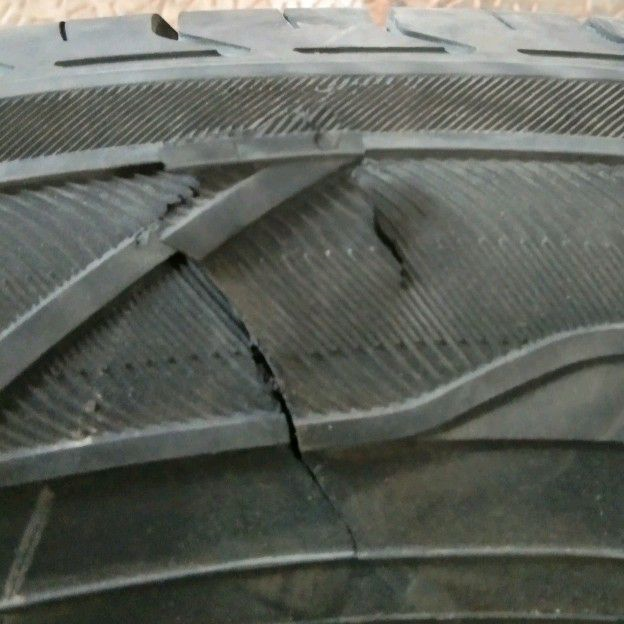cut: (170, 248, 358, 563), (336, 153, 409, 290), (161, 165, 252, 225)
